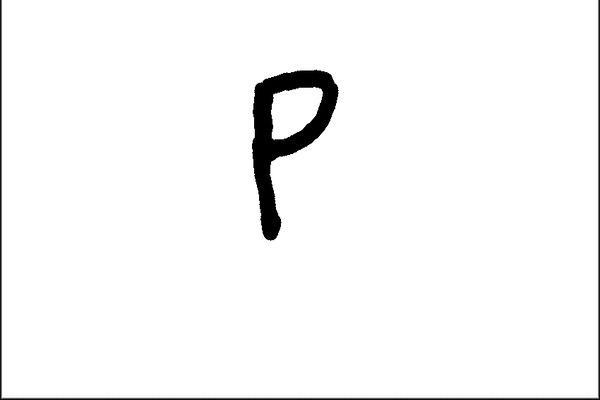P: (227, 54, 359, 251)
